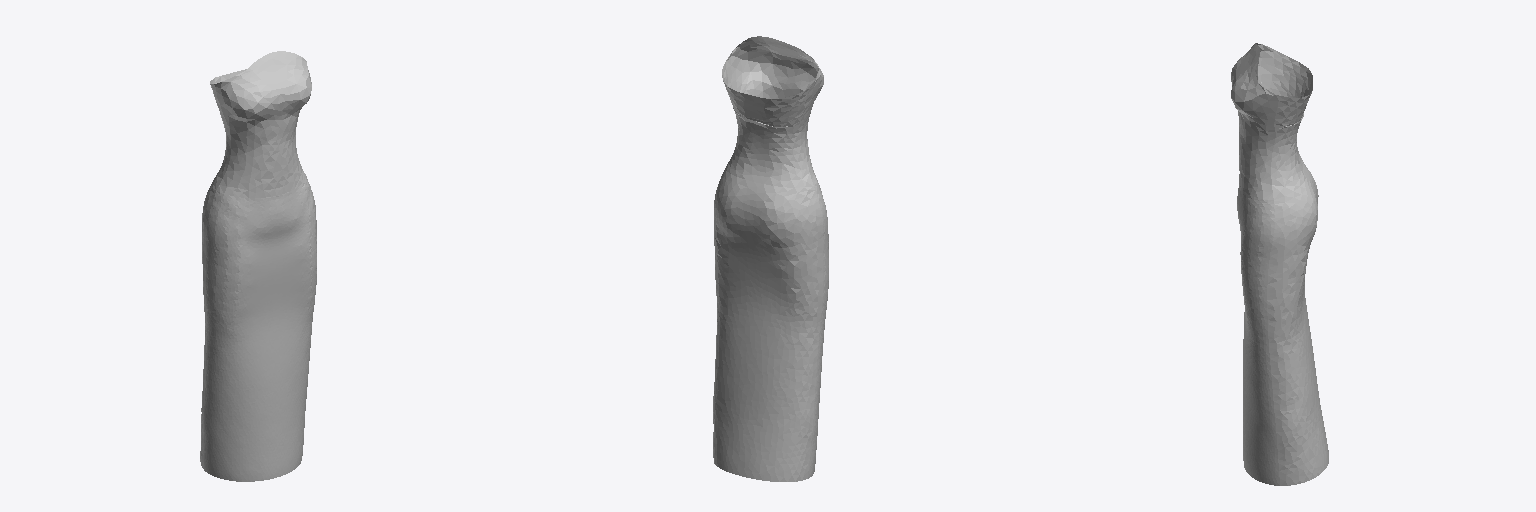
Rendered from Hawthroine Dress 02.obj.
3 renders of one model, left to right at view 1: azimuth 30°, elevation 25°; view 2: azimuth 150°, elevation 25°; view 3: azimuth 270°, elevation 25°, orthographic.
Size of the model in its own units: 27.67 by 105 by 22.39.